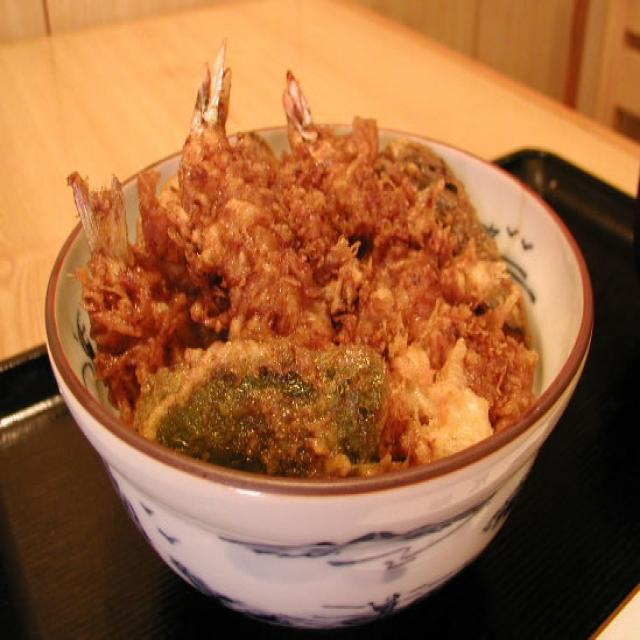熟制海鲜: (39, 45, 596, 615)
